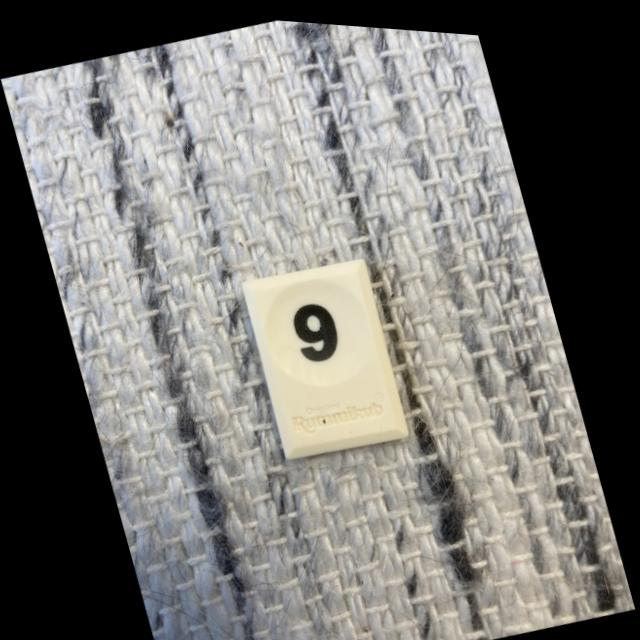black_9: (243, 253, 409, 454)
